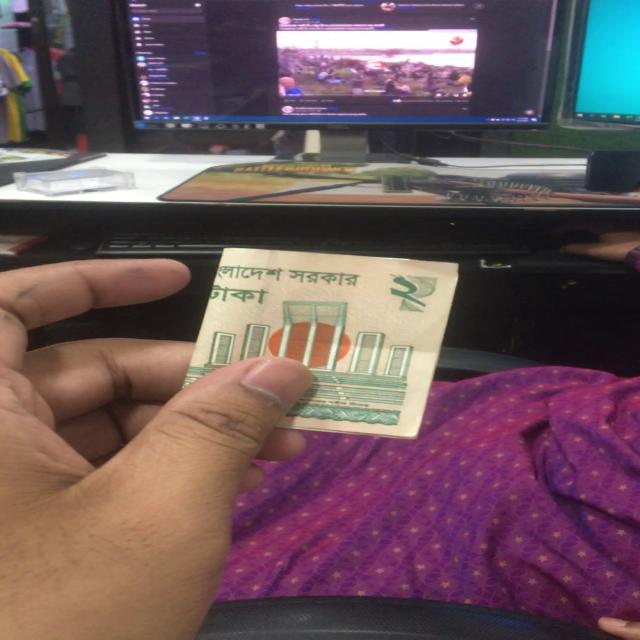Taka: (203, 246, 446, 452)
